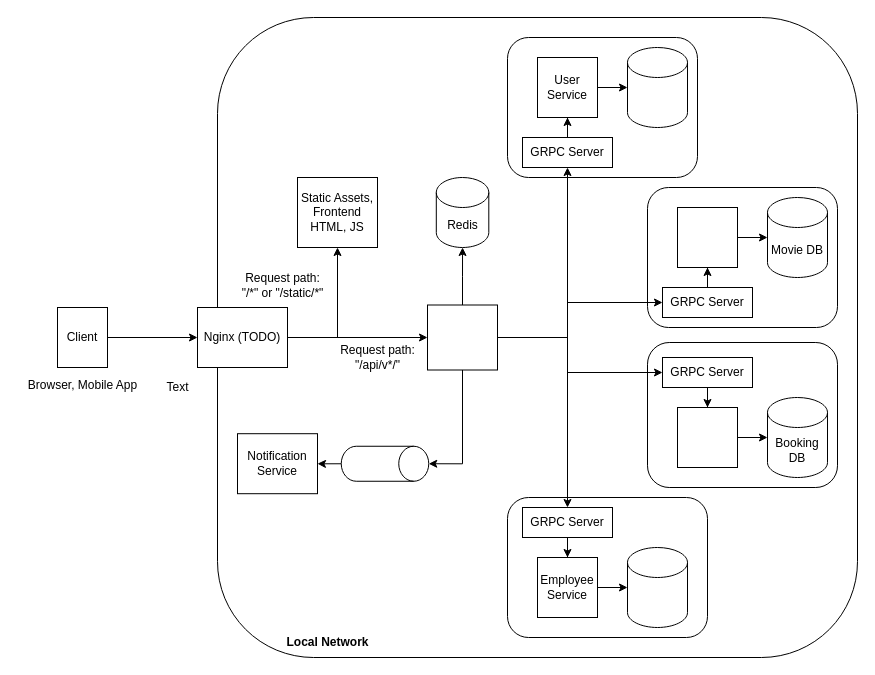
The diagram is 875 pixels wide and 675 high, and some of its shapes have lost their labels. The shapes that lost their labels are listed below. From the top down, each one's centre as x and y in pixels, then its label:
point 657,87: User DB
point 707,237: Movie Service
point 462,337: Gateway Service
point 707,437: Booking Service
point 384,463: RabbitMQ
point 657,587: Employee DB
